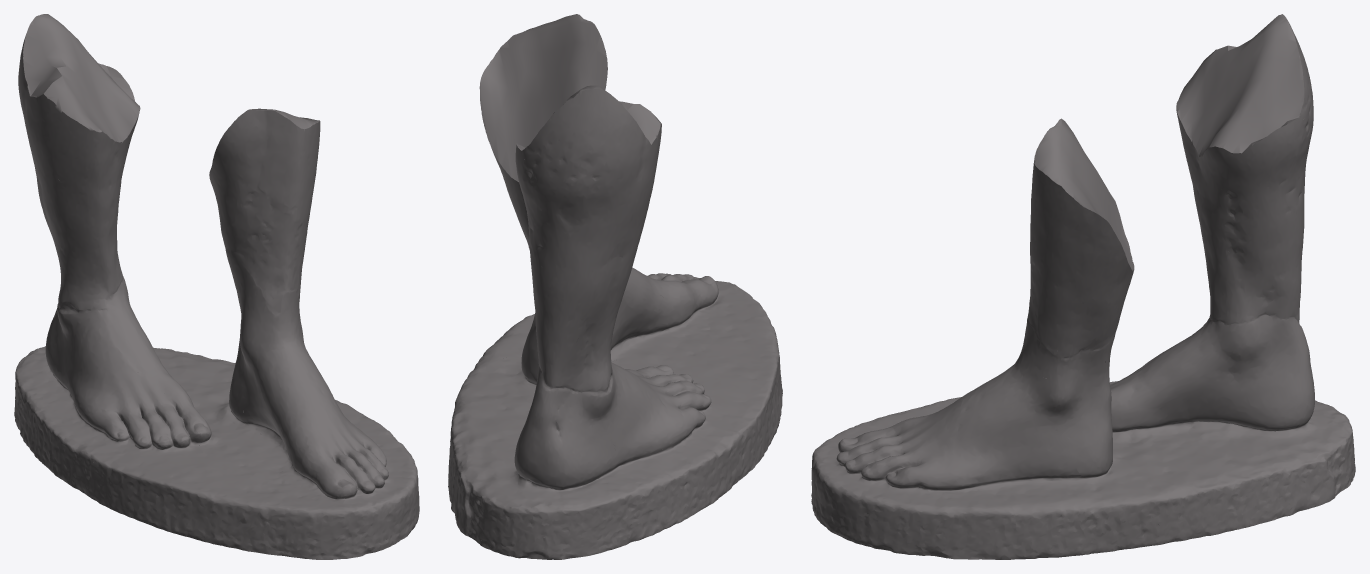
The model's file is feet.gltf.
3 renders of one model, left to right at view 1: azimuth 30°, elevation 25°; view 2: azimuth 150°, elevation 25°; view 3: azimuth 270°, elevation 25°, orthographic. The views are drawn at different scales.
Parts seen in each view (by area): view 1: Object_2; view 2: Object_2; view 3: Object_2.
Part boxes in pixels (bbox=[...]): Object_2: bbox=[14, 14, 419, 559]; Object_2: bbox=[448, 14, 782, 559]; Object_2: bbox=[811, 14, 1355, 559].
Size of the model in its own units: 13.31 by 20.12 by 22.88.
Materials: 1 (1 with a texture image).
